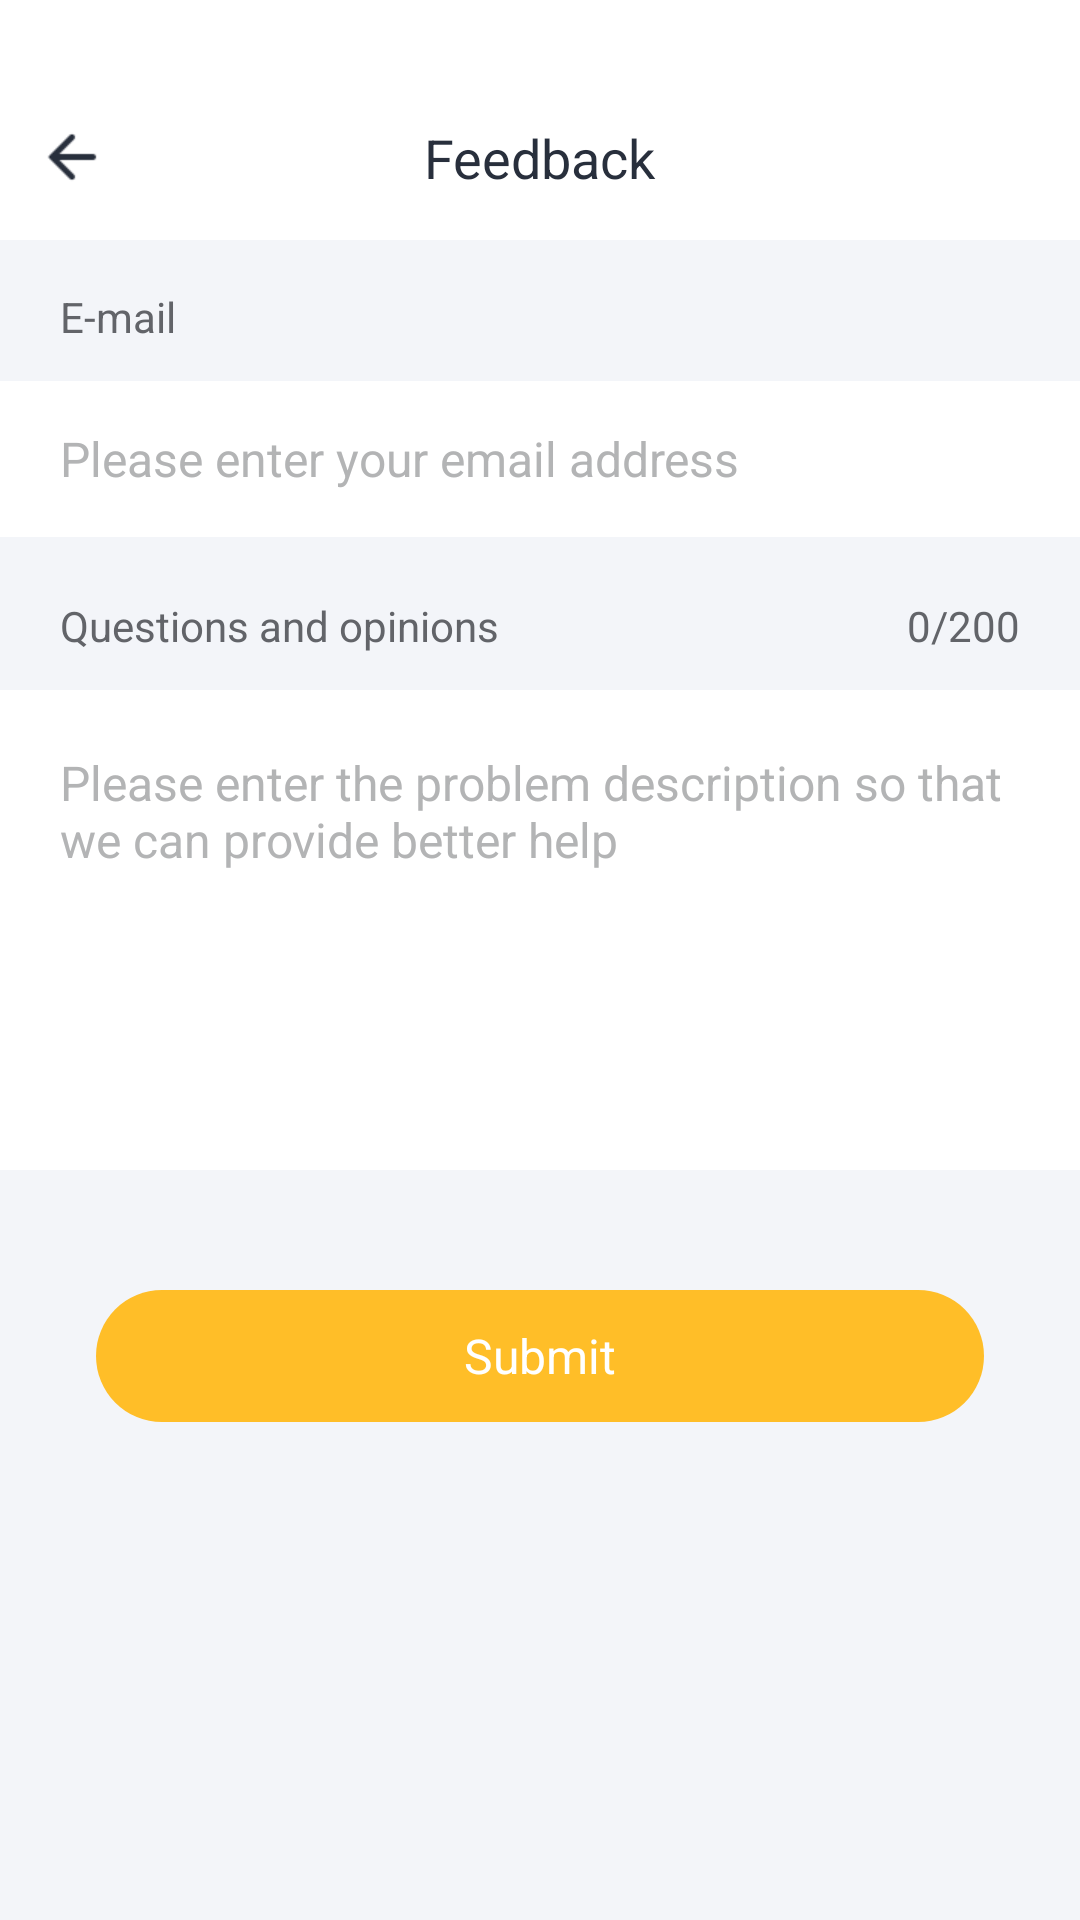

Locate icon controls on the screen. Image size 1080x1920, boxes as region(x1, y1, x2, y2).
mip back: region(48, 134, 97, 180)
